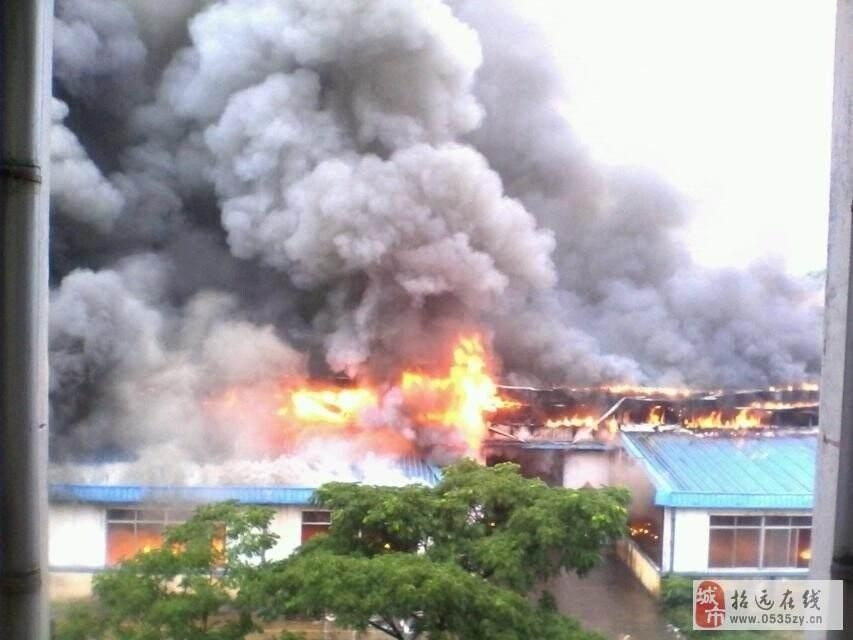fire: (398, 330, 507, 454), (539, 385, 806, 434), (277, 373, 376, 426)
